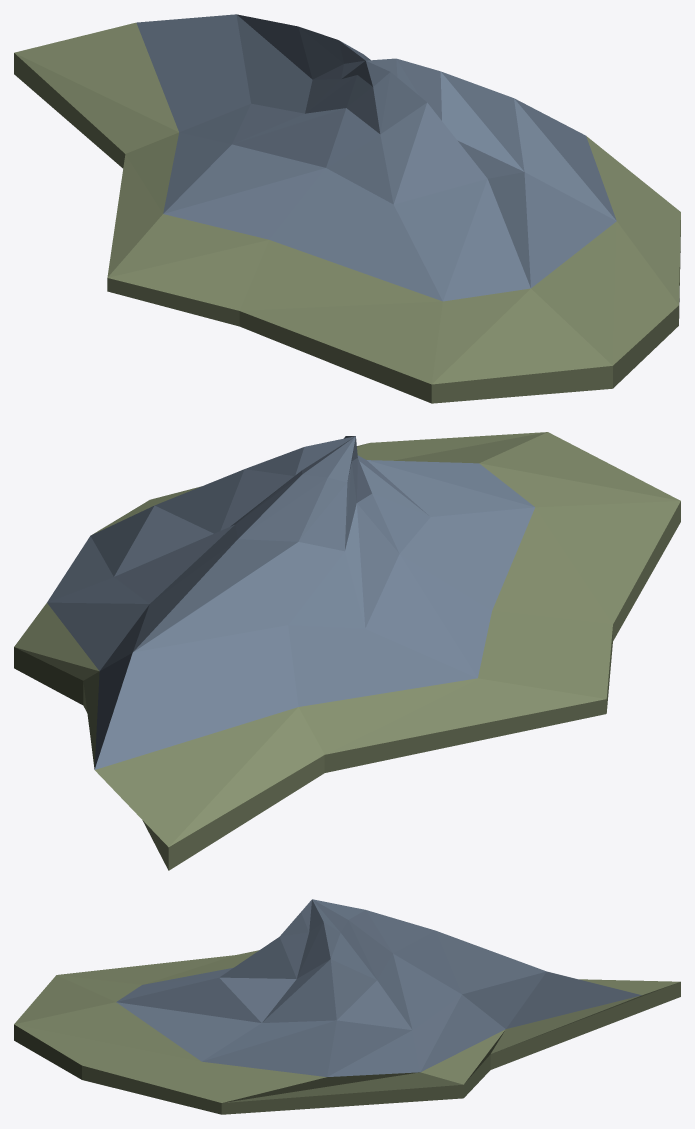
The model's file is massif_cirque_wall.glb.
3 renders of one model, top to bottom at view 1: azimuth 30°, elevation 25°; view 2: azimuth 150°, elevation 25°; view 3: azimuth 270°, elevation 25°, orthographic. The views are drawn at different scales.
Visible parts, largest first — view 1: massif_cirque_wall; view 2: massif_cirque_wall; view 3: massif_cirque_wall.
Part boxes in pixels (<box>): massif_cirque_wall: <box>14,14,680,403</box>; massif_cirque_wall: <box>14,432,680,870</box>; massif_cirque_wall: <box>14,899,680,1114</box>.
Bounding box in the file's own units: 421 × 149 × 696.
